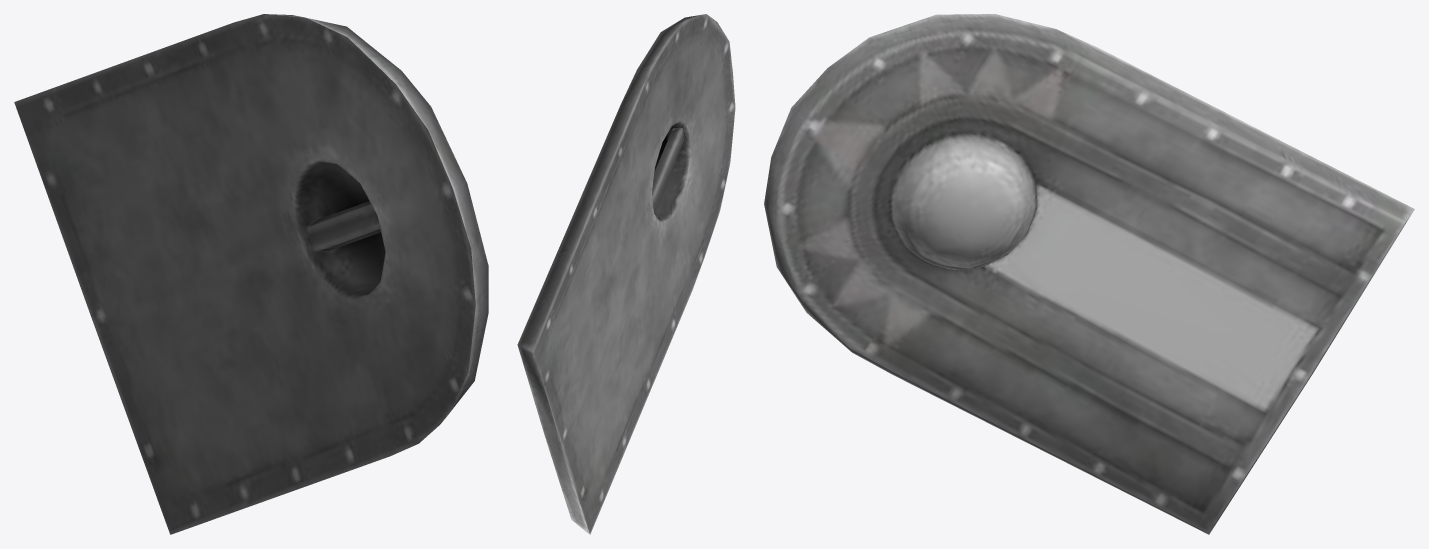
File: rider-shield-slice-ironshields.glb
3 renders of one model, left to right at view 1: azimuth 30°, elevation 25°; view 2: azimuth 150°, elevation 25°; view 3: azimuth 270°, elevation 25°, orthographic. The views are drawn at different scales.
Size of the model in its own units: 0.1364 by 0.6397 by 0.7133.
Materials: 1 (1 with a texture image).
